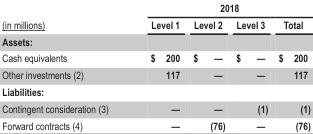table: (1, 1, 309, 130)
table column: (1, 1, 128, 130), (128, 1, 185, 130), (185, 1, 229, 130), (229, 1, 272, 130), (272, 1, 309, 130)
table column header: (1, 1, 309, 32)
table projected row header: (1, 32, 309, 49), (1, 82, 309, 99)
table row: (1, 15, 309, 32), (1, 32, 309, 49), (1, 49, 309, 66), (1, 82, 309, 99), (1, 99, 309, 116), (1, 66, 309, 82), (1, 1, 309, 15), (1, 116, 309, 130)
table spanning cell: (1, 1, 128, 32), (128, 1, 309, 15)
